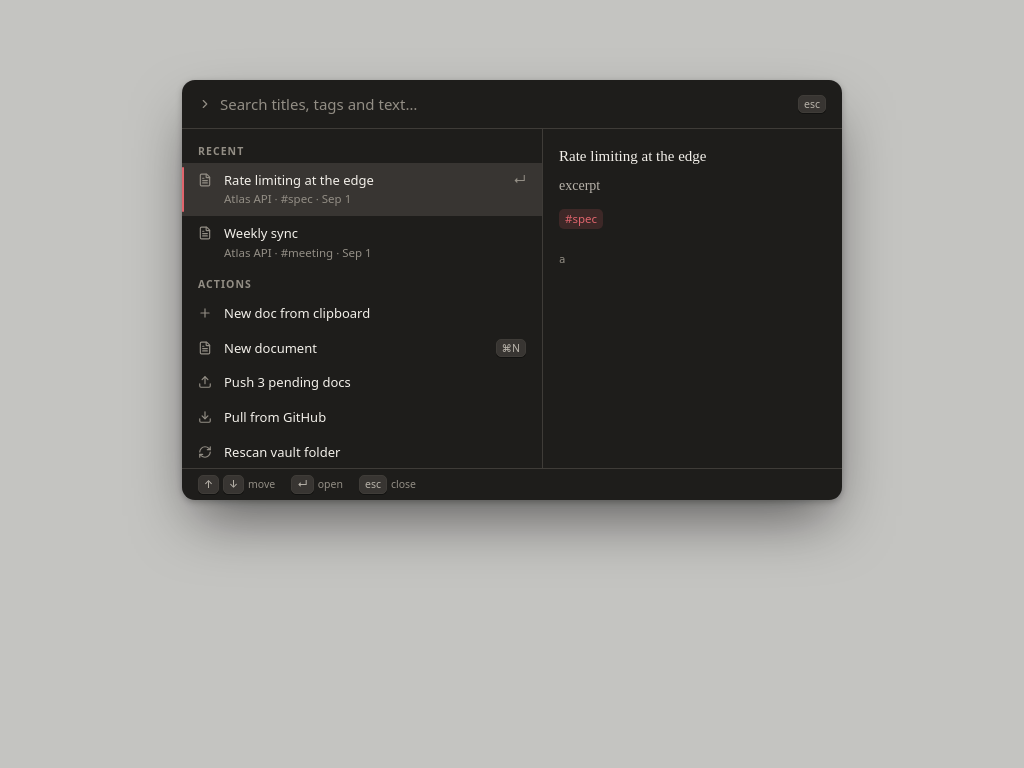
it: CommandPalette › structured filters without text narrow the list
fireEvent-style typing of operators
In the dropdown labelled "Search": (505, 104) [220,80,790,128], type "is:starred source:chatgpt"
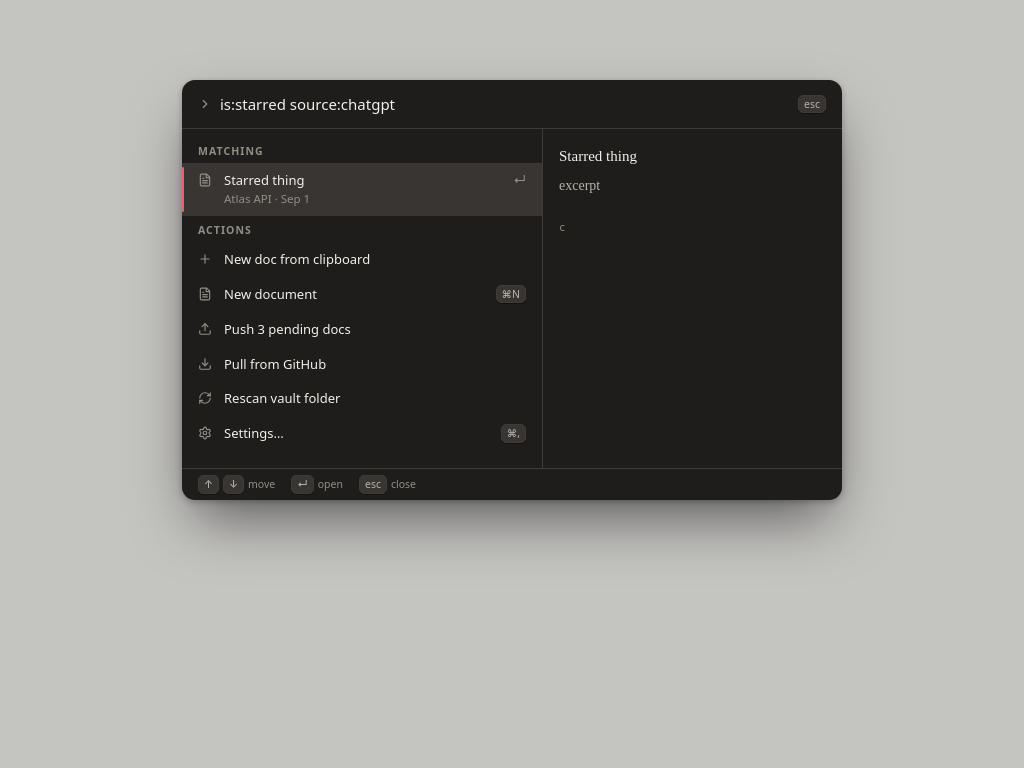
Result: the text "Matching" is shown at [198,144,264,158]
Result: the text "Starred thing" below "Matching" is shown at [224,171,304,189]
Result: the option "Weekly sync" is gone
